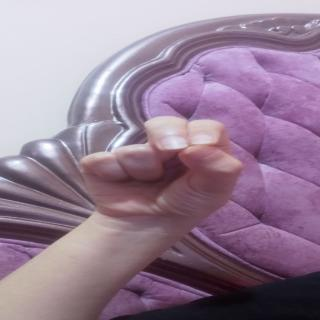QAAF: (57, 106, 276, 210), (193, 105, 196, 116)
